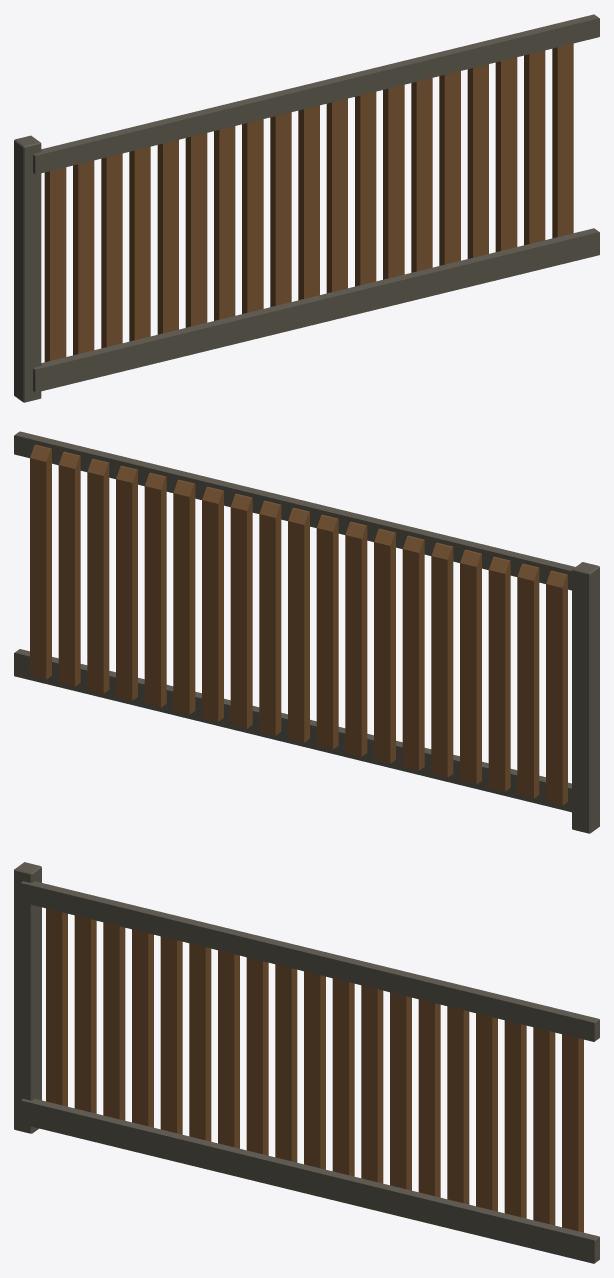
Rendered from fence.glb.
3 renders of one model, top to bottom at view 1: azimuth 30°, elevation 25°; view 2: azimuth 150°, elevation 25°; view 3: azimuth 330°, elevation 25°, orthographic.
Visible parts, largest first — view 1: fence_panels; view 2: fence_panels; view 3: fence_panels.
Boxes of the visible parts, bbox=[...] form: fence_panels: bbox=[14, 14, 599, 402]; fence_panels: bbox=[14, 431, 599, 833]; fence_panels: bbox=[14, 862, 599, 1263].
Bounding box in the file's own units: 14.25 × 6.08 × 0.55.
